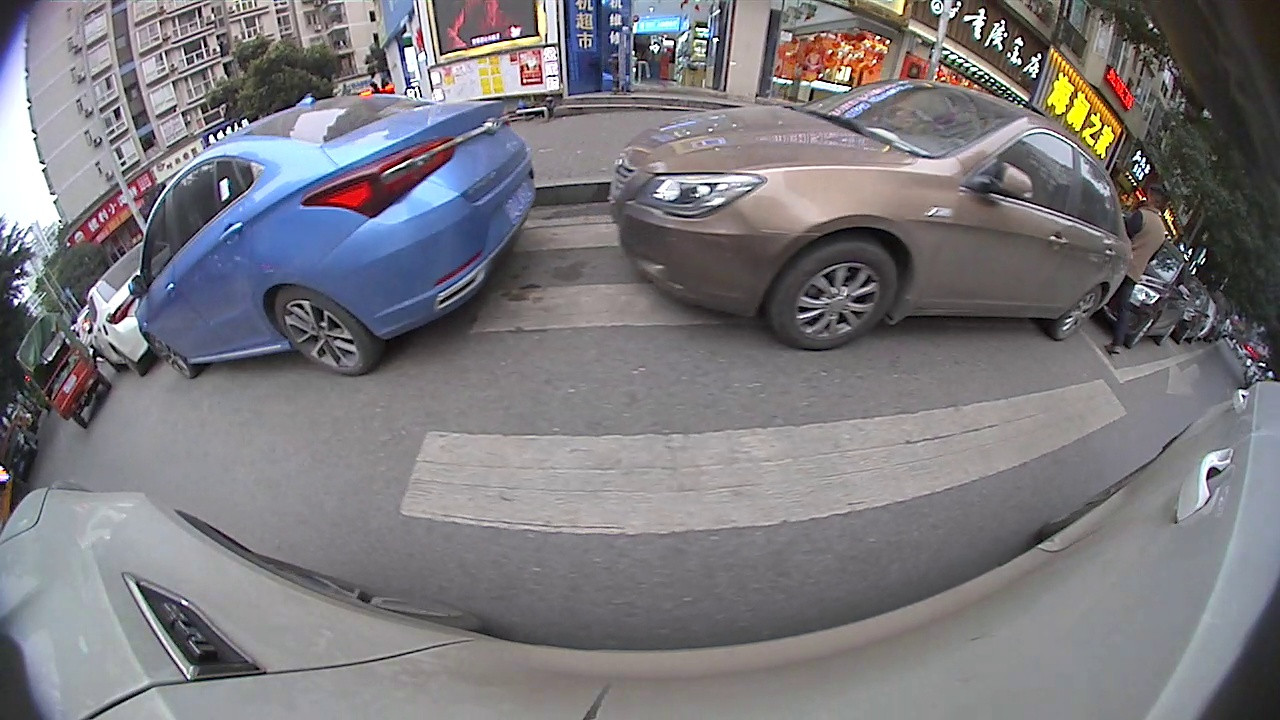car: (106, 1, 845, 357), (917, 165, 1160, 385), (59, 198, 172, 350), (1142, 267, 1193, 376)
front: (605, 232, 758, 355), (106, 305, 147, 349), (1111, 346, 1147, 381)
person: (866, 45, 917, 210)
rear: (187, 278, 262, 352), (1041, 332, 1106, 389)
